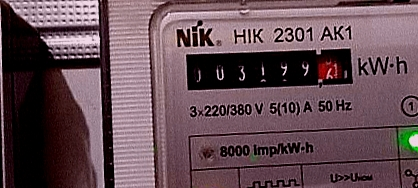0: (189, 62, 202, 84), (211, 61, 225, 81)
1: (255, 57, 267, 77)
3: (234, 62, 246, 82)
6: (323, 64, 334, 81)
9: (276, 57, 289, 77), (297, 57, 310, 77)
screen: (176, 36, 362, 104)
